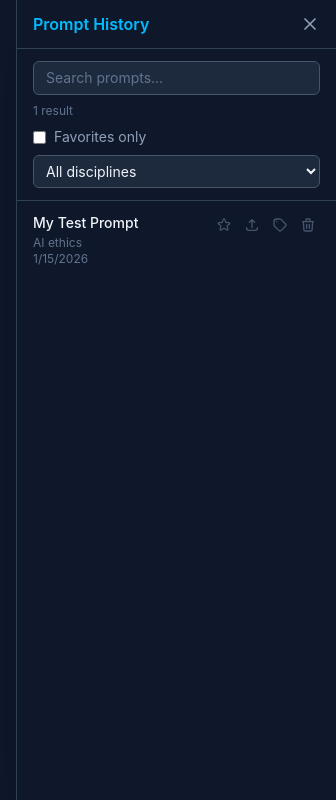
Test: PromptHistory — tags display › opens inline tag editor when Edit Tags button is clicked
Expected: the text "My Test Prompt" is shown, [33,214,138,231]
Click the button named "edit tags: my test prompt".
click(280, 225)  # box [268,213,292,237]
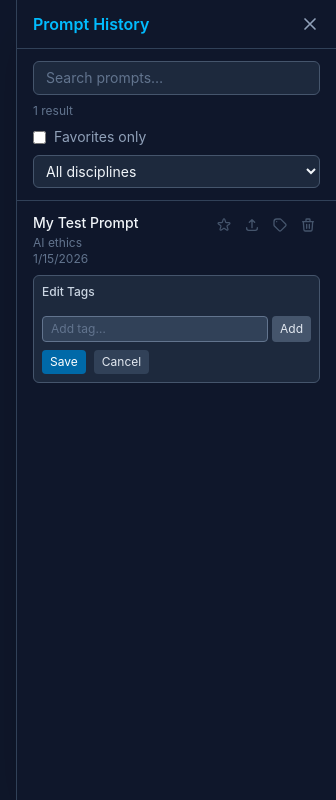
Expected: the text "Edit Tags" is shown, [42,284,95,299]
Expected: the field named "new tag input" is shown, [42,316,268,342]
